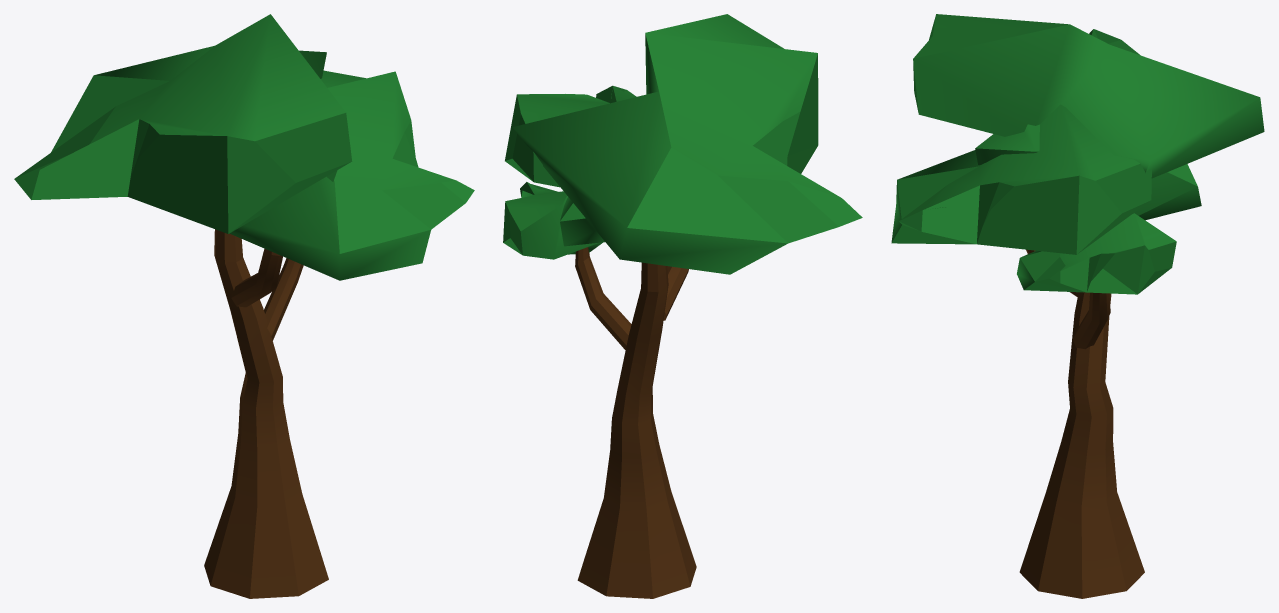
File: Tree6.fbx
3 views of the same model, side by side, from view 1: azimuth 30°, elevation 25°; view 2: azimuth 150°, elevation 25°; view 3: azimuth 270°, elevation 25° (orthographic). The views are drawn at different scales.
Visible parts, largest first — view 1: Treelight2; view 2: Treelight2; view 3: Treelight2.
Boxes of the visible parts, box(x1,y1,x2,y2) form: Treelight2: box(14, 14, 474, 598); Treelight2: box(503, 14, 862, 598); Treelight2: box(891, 14, 1264, 598).
Bounding box in the file's own units: 3.15 × 4.49 × 2.78.
